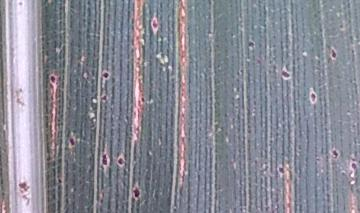tarspot: (98, 142, 110, 179), (16, 178, 33, 202), (348, 154, 360, 187), (129, 179, 144, 205), (278, 63, 293, 84), (149, 15, 161, 41), (65, 133, 79, 154), (307, 86, 319, 108), (114, 151, 127, 171), (328, 44, 339, 66), (48, 71, 61, 89), (329, 145, 341, 163), (99, 67, 112, 83), (98, 90, 110, 106), (276, 161, 287, 178), (245, 38, 257, 53), (98, 191, 104, 211), (338, 21, 346, 33), (55, 175, 64, 185), (139, 95, 146, 106)
